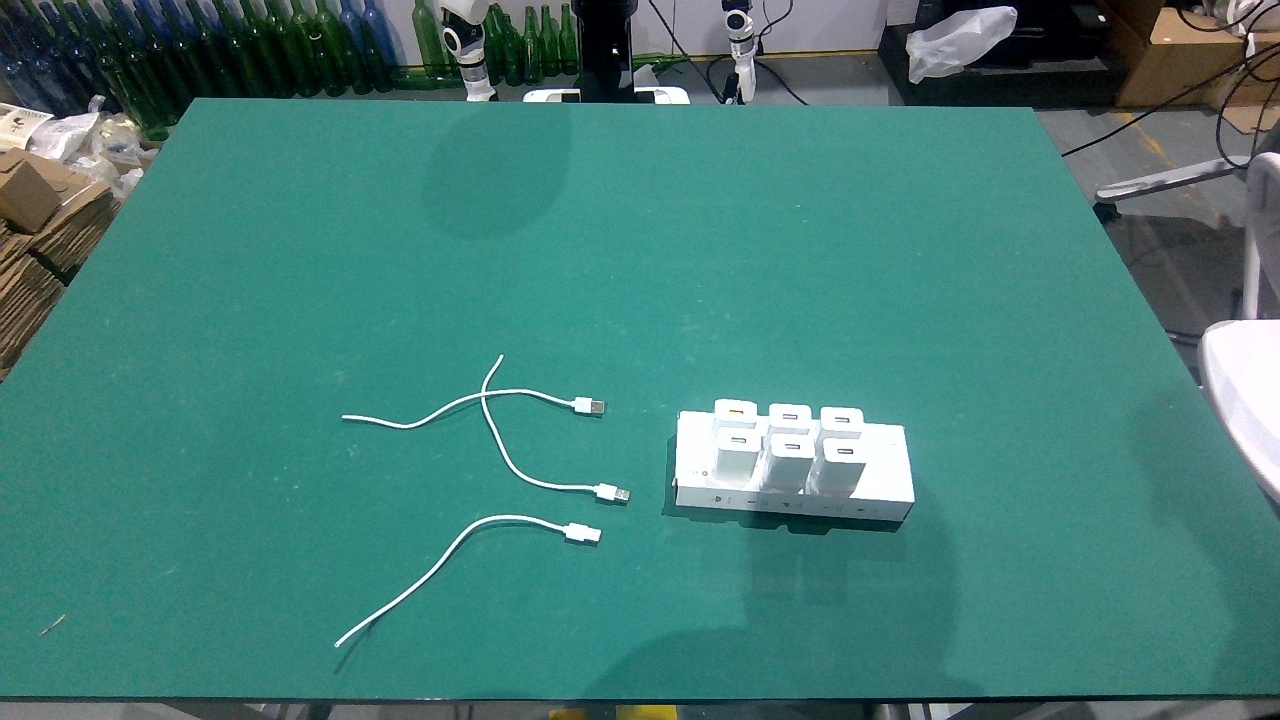usb_a_port: (780, 410, 800, 424), (830, 413, 853, 425), (727, 406, 747, 417), (834, 446, 856, 456), (784, 441, 804, 452), (728, 436, 747, 447)
